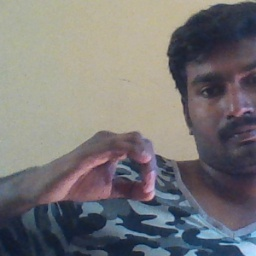O: (45, 125, 161, 211)
